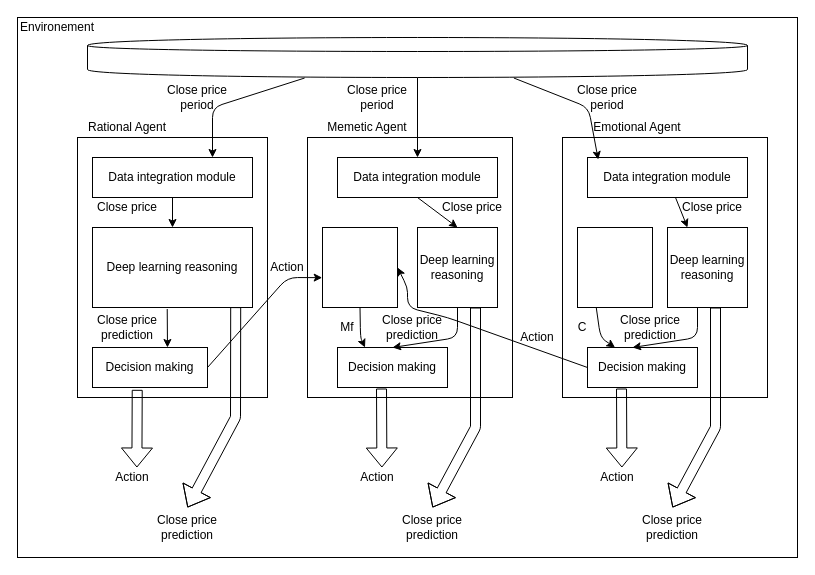
This 815x575 diagram has some shape labels left out. The shapes that lost their labels are listed below. From the top down, each one's centre as x and y in pixels, then its label:
the point at 417,57: Historical Asset Prices
the point at 360,267: Most-Frequent-Action()
the point at 614,267: Confidence Level
